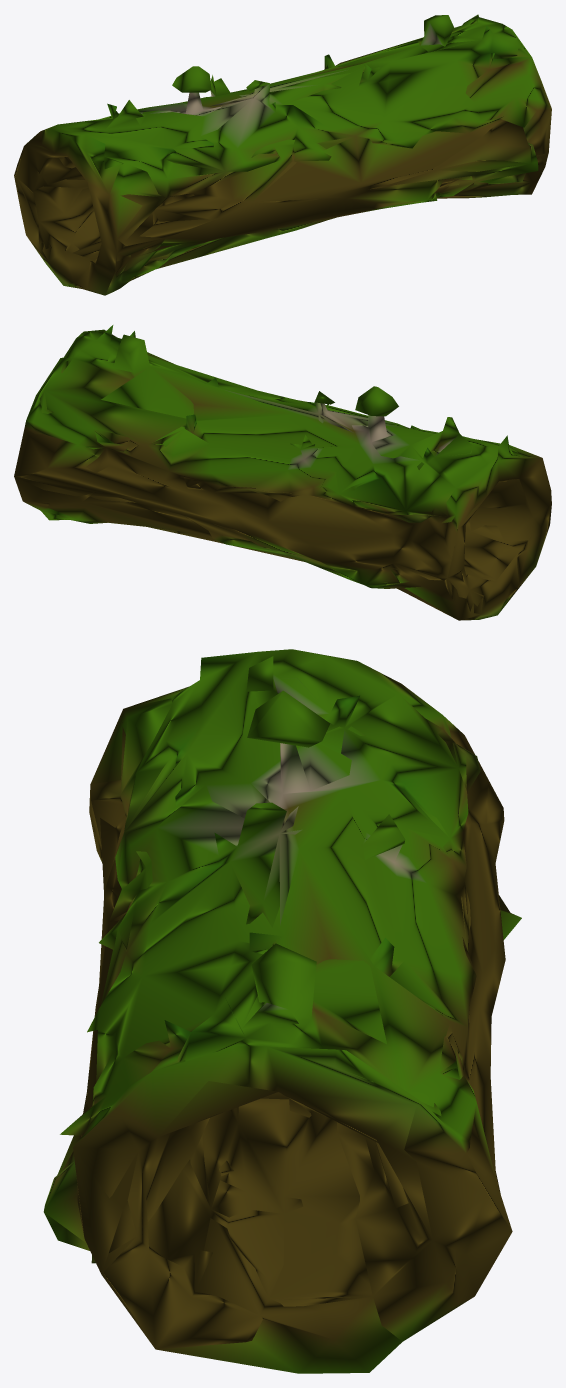
Rendered from gen3d-fallen-log-lod0.glb.
The picture shows the model from 3 angles, top to bottom: view 1: azimuth 30°, elevation 25°; view 2: azimuth 150°, elevation 25°; view 3: azimuth 270°, elevation 25°; orthographic projection. The views are drawn at different scales.
Parts seen in each view (by area): view 1: part_0; view 2: part_0; view 3: part_0.
Part boxes in pixels (x1,y1,x2,y2): part_0: (14, 14, 551, 295); part_0: (14, 325, 551, 620); part_0: (43, 649, 521, 1373).
Bounding box in the file's own units: 2.34 × 1 × 1.12.
